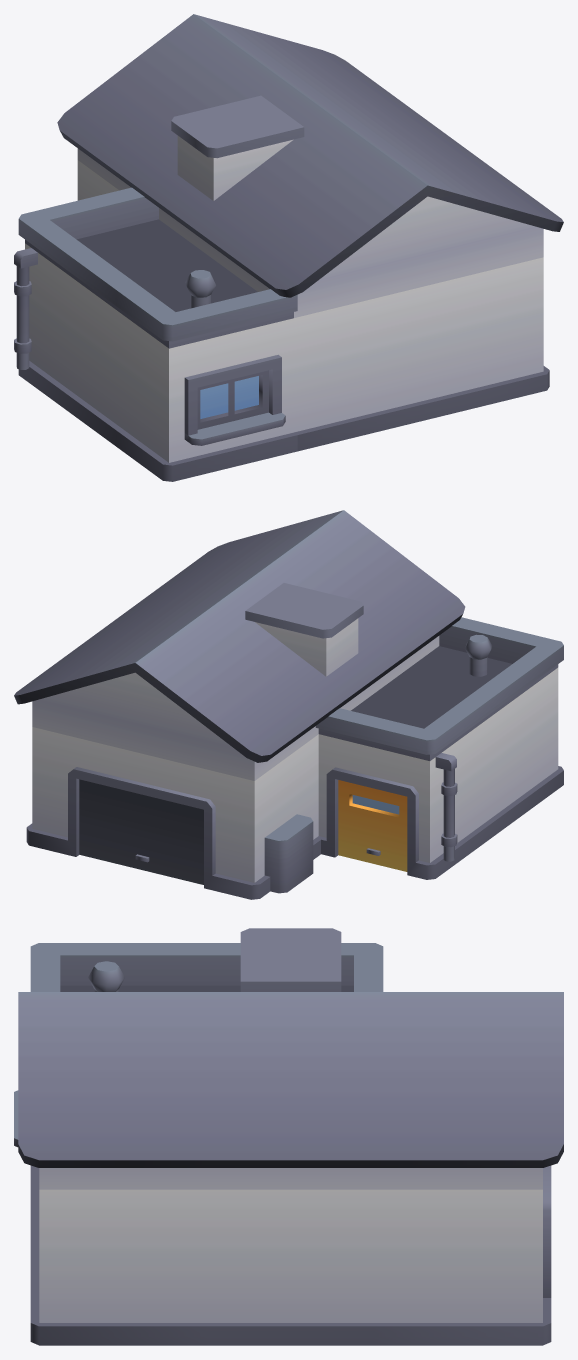
The model's file is k-city-kit-industrial-building-h.glb.
3 renders of one model, top to bottom at view 1: azimuth 30°, elevation 25°; view 2: azimuth 150°, elevation 25°; view 3: azimuth 270°, elevation 25°, orthographic. The views are drawn at different scales.
Visible parts, largest first — view 1: building-h; view 2: building-h; view 3: building-h.
Part boxes in pixels (x1,y1,x2,y2): building-h: [14, 14, 563, 481]; building-h: [14, 510, 563, 899]; building-h: [14, 928, 563, 1345].
Bounding box in the file's own units: 1.32 × 0.7336 × 1.31.
1 material, 1 textured.
